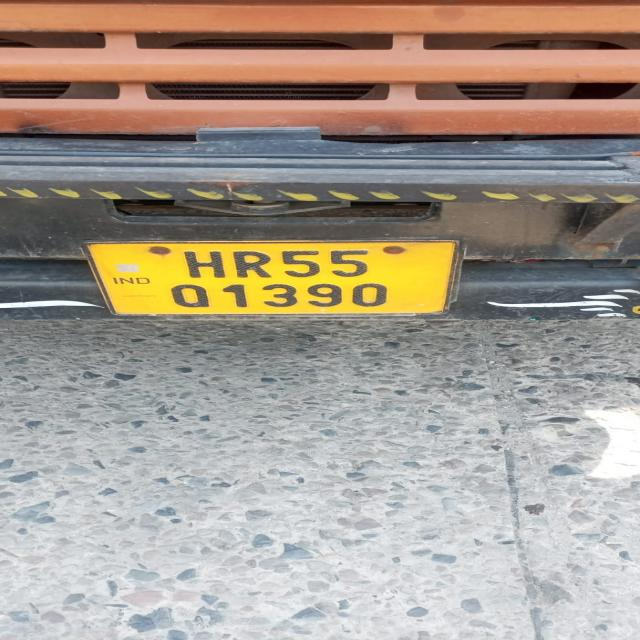License-plate: (125, 239, 418, 325)
